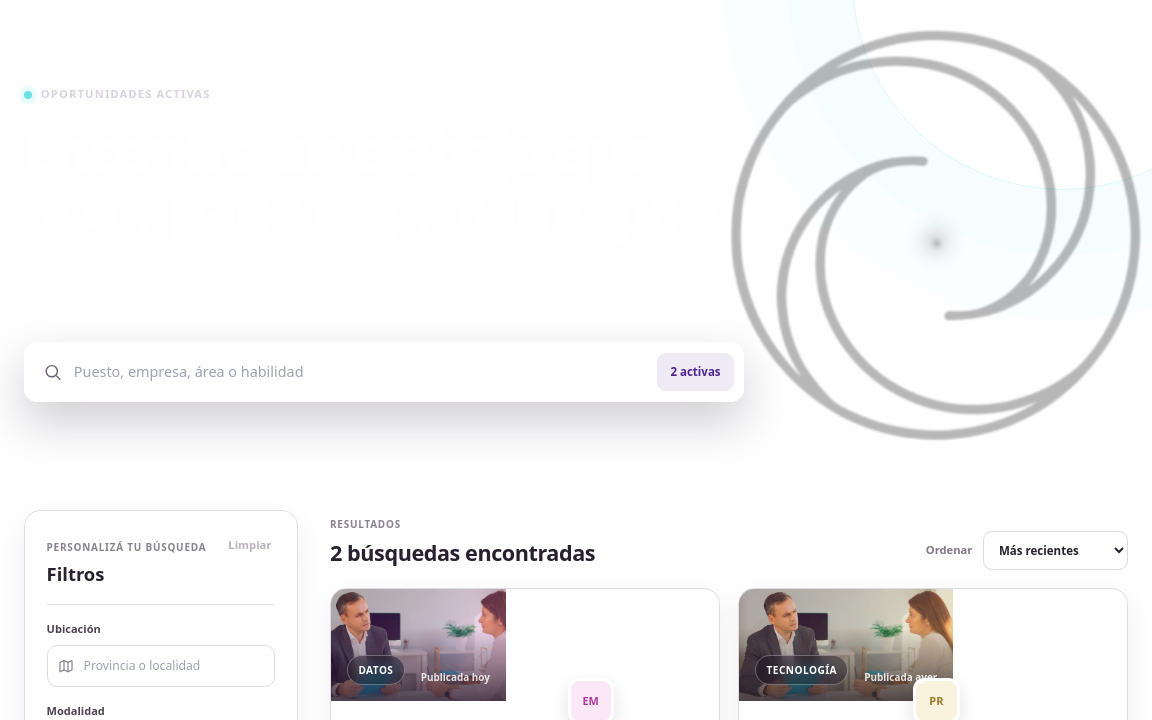
Busquedas › filtra oportunidades y permite abrir el detalle accesible
The image size is (1152, 720).
Type "datos" into the search field named "Buscar oportunidades" at (359, 372), box [74, 361, 645, 382]
(page scrolled)
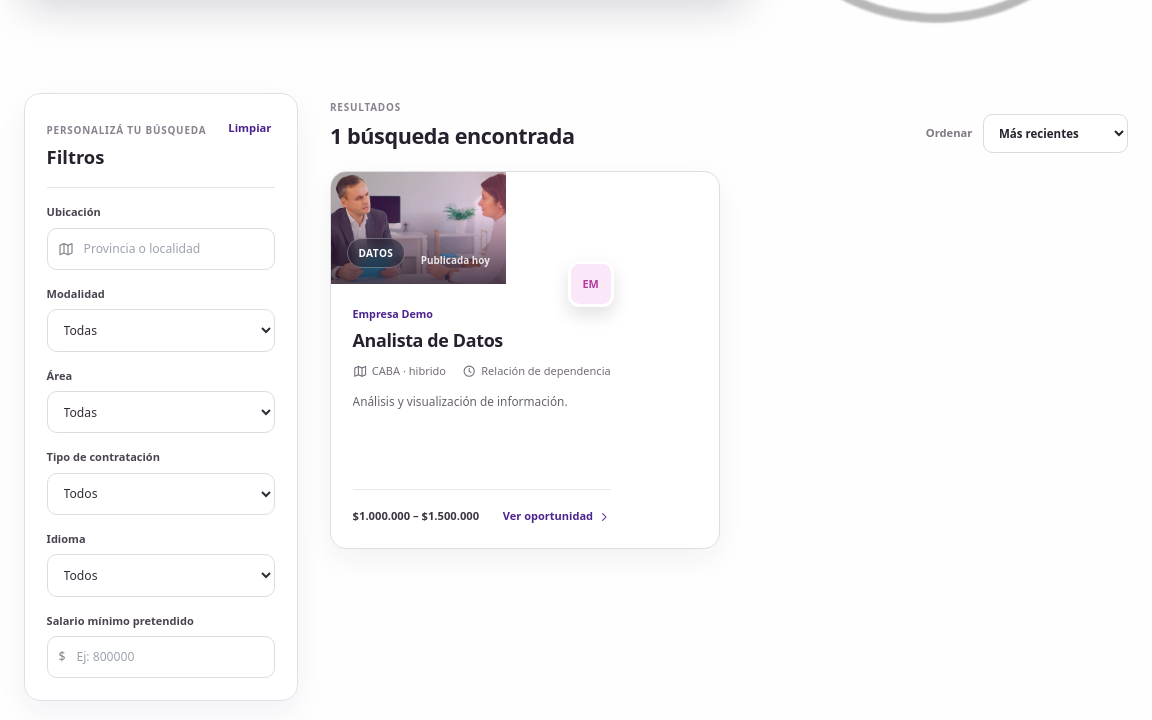
Expected: the heading "Analista de Datos" is shown, [353, 328, 503, 352]
Click the button with aria-label "Ver detalle de Analista de Datos" at (525, 360), box [331, 172, 719, 548]
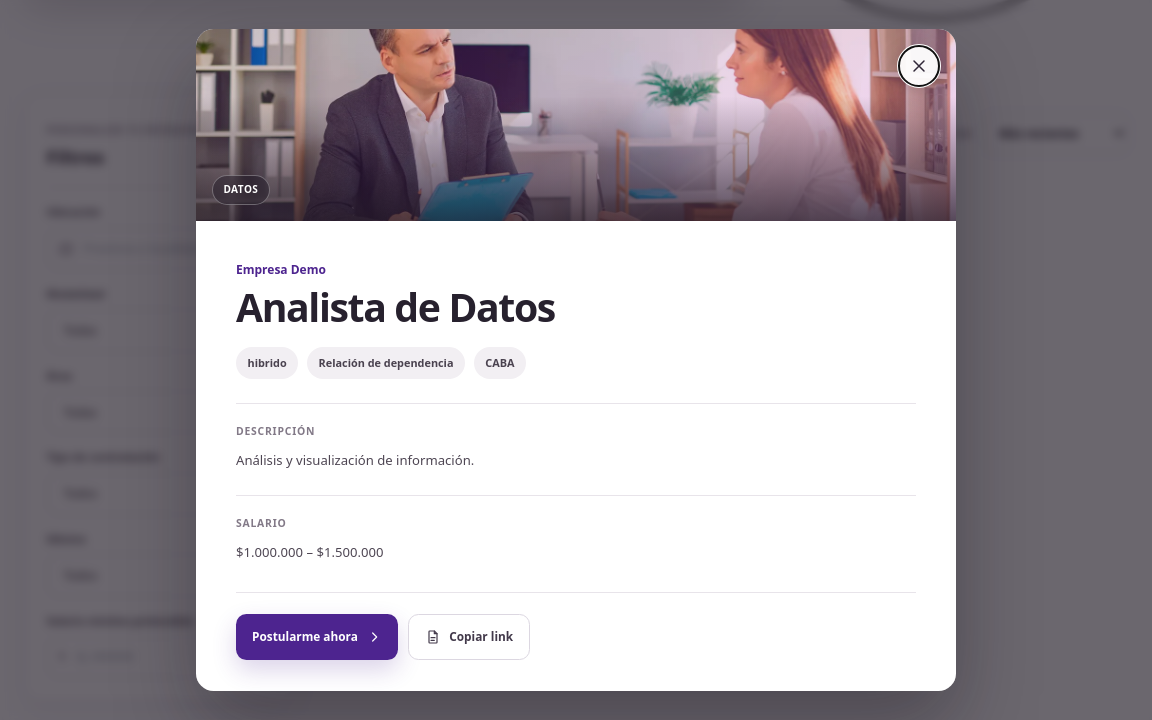
Result: the dialog is shown
